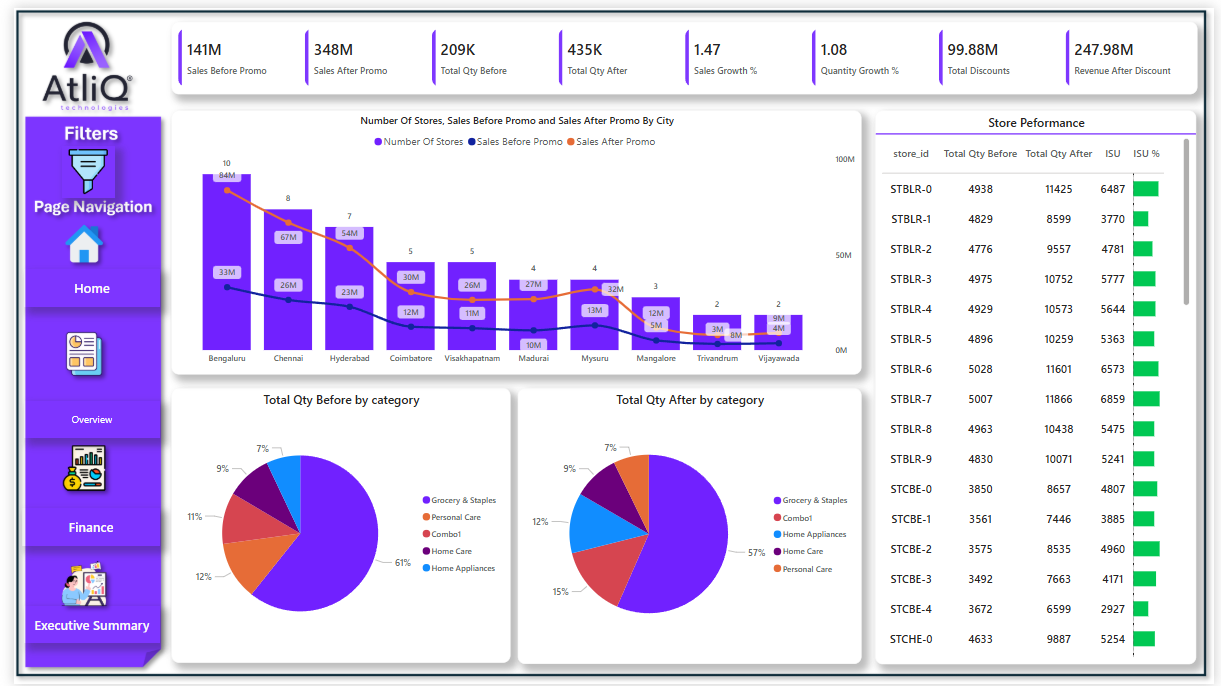

This screenshot's page, from the dashboard's own definition file:
{"tool":"powerbi","page":{"name":"Overview","canvas":[1600,901],"ordinal":1},"visuals":[{"type":"cardVisual","fields":{"Data":["All Measures.Total Sales Before Promo","All Measures.Total Sales After Promo","All Measures.Total Qty Before","All Measures.Total Qty After","All Measures.Sales Growth %","All Measures.Quantity Growth %","All Measures.Total Discounts","All Measures.Net Revenue After Discount"]},"box":[210,18.3,1368.3,96.7],"z":0},{"type":"lineStackedColumnComboChart","title":"Number Of Stores, Sales Before Promo and Sales After Promo By City","fields":{"Category":["dim_stores.city"],"Y":["CountNonNull(dim_stores.store_id)"],"Y2":["All Measures.Sales Before Promo","All Measures.Sales After Promo"]},"box":[210,136.7,920,351.7],"z":0,"group":"g2"},{"type":"pieChart","fields":{"Category":["dim_products.category"],"Y":["All Measures.Total Qty Before"]},"box":[210,506.7,451.7,366.7],"z":0,"group":"g1"},{"type":"tableEx","title":"Store Peformance","fields":{"Values":["dim_stores.store_id","All Measures.Total Qty Before","All Measures.Total Qty After","All Measures.Incremental Units","All Measures.Incremental Unit %"]},"box":[1148.3,136.7,428.3,738.3],"z":1000,"group":"g2"},{"type":"pageNavigator","box":[13.3,348.3,181.7,50],"z":1000},{"type":"pieChart","fields":{"Category":["dim_products.category"],"Y":["All Measures.Total Qty After"]},"box":[671.7,506.7,458.3,368.3],"z":1000,"group":"g1"},{"type":"pageNavigator","box":[10,666.7,185,50],"z":2000},{"type":"pageNavigator","box":[13.3,523.3,181.7,50],"z":3000},{"type":"image","title":"Filter Button","box":[63.3,183.3,71.7,70],"z":5000},{"type":"pageNavigator","box":[13.3,796.7,181.7,50],"z":6000},{"type":"group","id":"g1","title":"Group 3","box":[210,506.7,920,368.3],"z":7000},{"type":"group","id":"g2","title":"Group 4","box":[210,136.7,1366.7,738.3],"z":8000}]}

Visuals, with their boxes in screenshot pixels (x1, y1, x2, y2), scaled from the page's 1600x901 canvas onto the 1221x686 screenshot:
cardVisual - All Measures.Total Sales Before Promo x All Measures.Total Sales After Promo: (x1=160, y1=14, x2=1204, y2=88)
"Number Of Stores, Sales Before Promo and Sales After Promo By City" lineStackedColumnComboChart: (x1=160, y1=104, x2=862, y2=372)
pieChart - dim_products.category x All Measures.Total Qty Before: (x1=160, y1=386, x2=505, y2=665)
"Store Peformance" tableEx: (x1=876, y1=104, x2=1203, y2=666)
pageNavigator: (x1=10, y1=265, x2=149, y2=303)
pieChart - dim_products.category x All Measures.Total Qty After: (x1=513, y1=386, x2=862, y2=666)
pageNavigator: (x1=8, y1=508, x2=149, y2=546)
pageNavigator: (x1=10, y1=398, x2=149, y2=436)
"Filter Button" image: (x1=48, y1=140, x2=103, y2=193)
pageNavigator: (x1=10, y1=607, x2=149, y2=645)
"Group 3" group: (x1=160, y1=386, x2=862, y2=666)
"Group 4" group: (x1=160, y1=104, x2=1203, y2=666)
